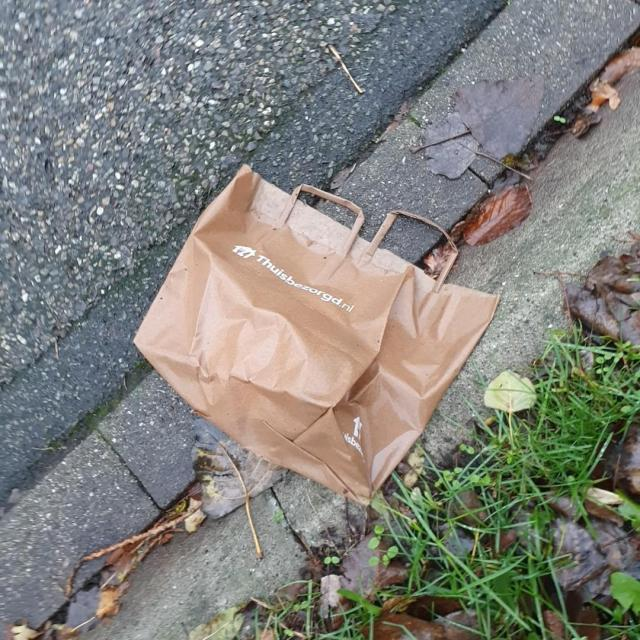Paper: (126, 160, 506, 507)
